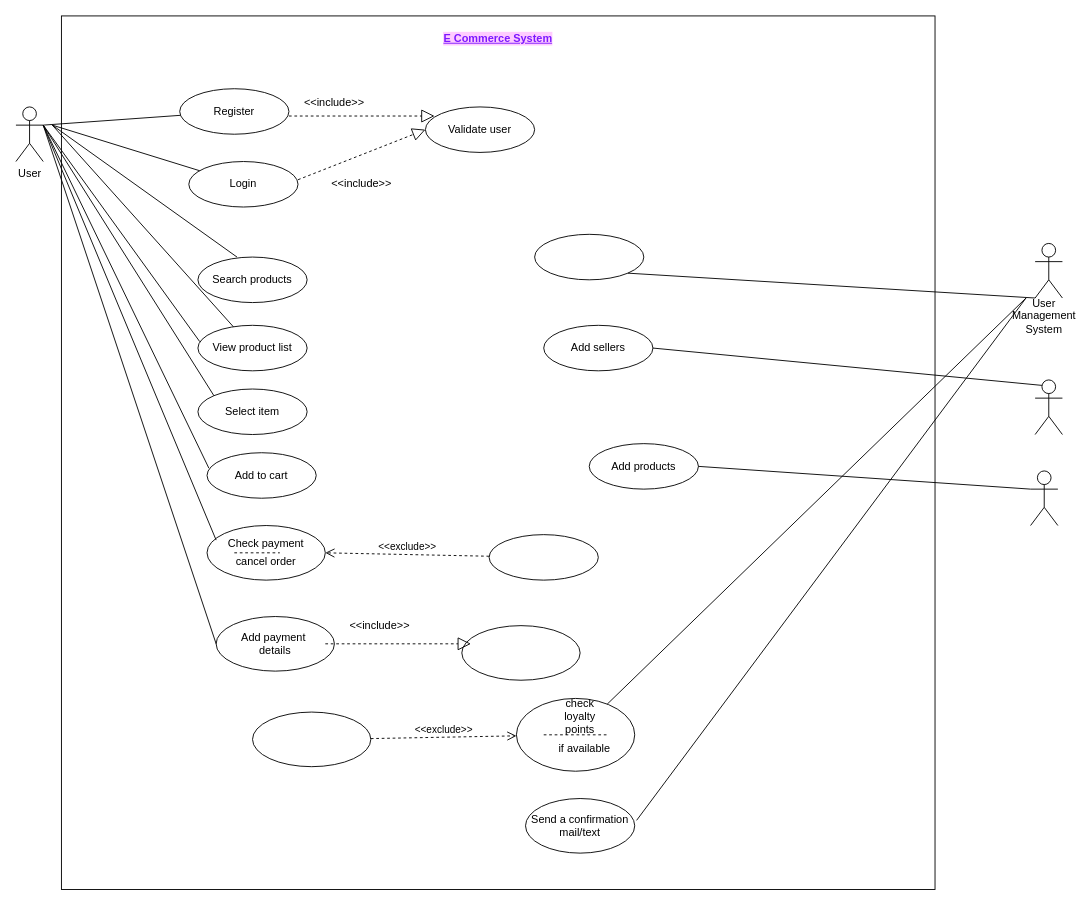
Some shapes in this 1092 by 905 pixel diagram are drawn without their labels. The box of each missing label's shape, as (x1, y1, x2, y2) in pixels:
Admin: (1034, 379, 1062, 435)
Display user profile: (534, 233, 644, 280)
Fill delivery form: (461, 625, 580, 680)
Logout: (488, 534, 598, 580)
Redeem points: (252, 711, 371, 767)
Seller: (1030, 470, 1058, 526)
